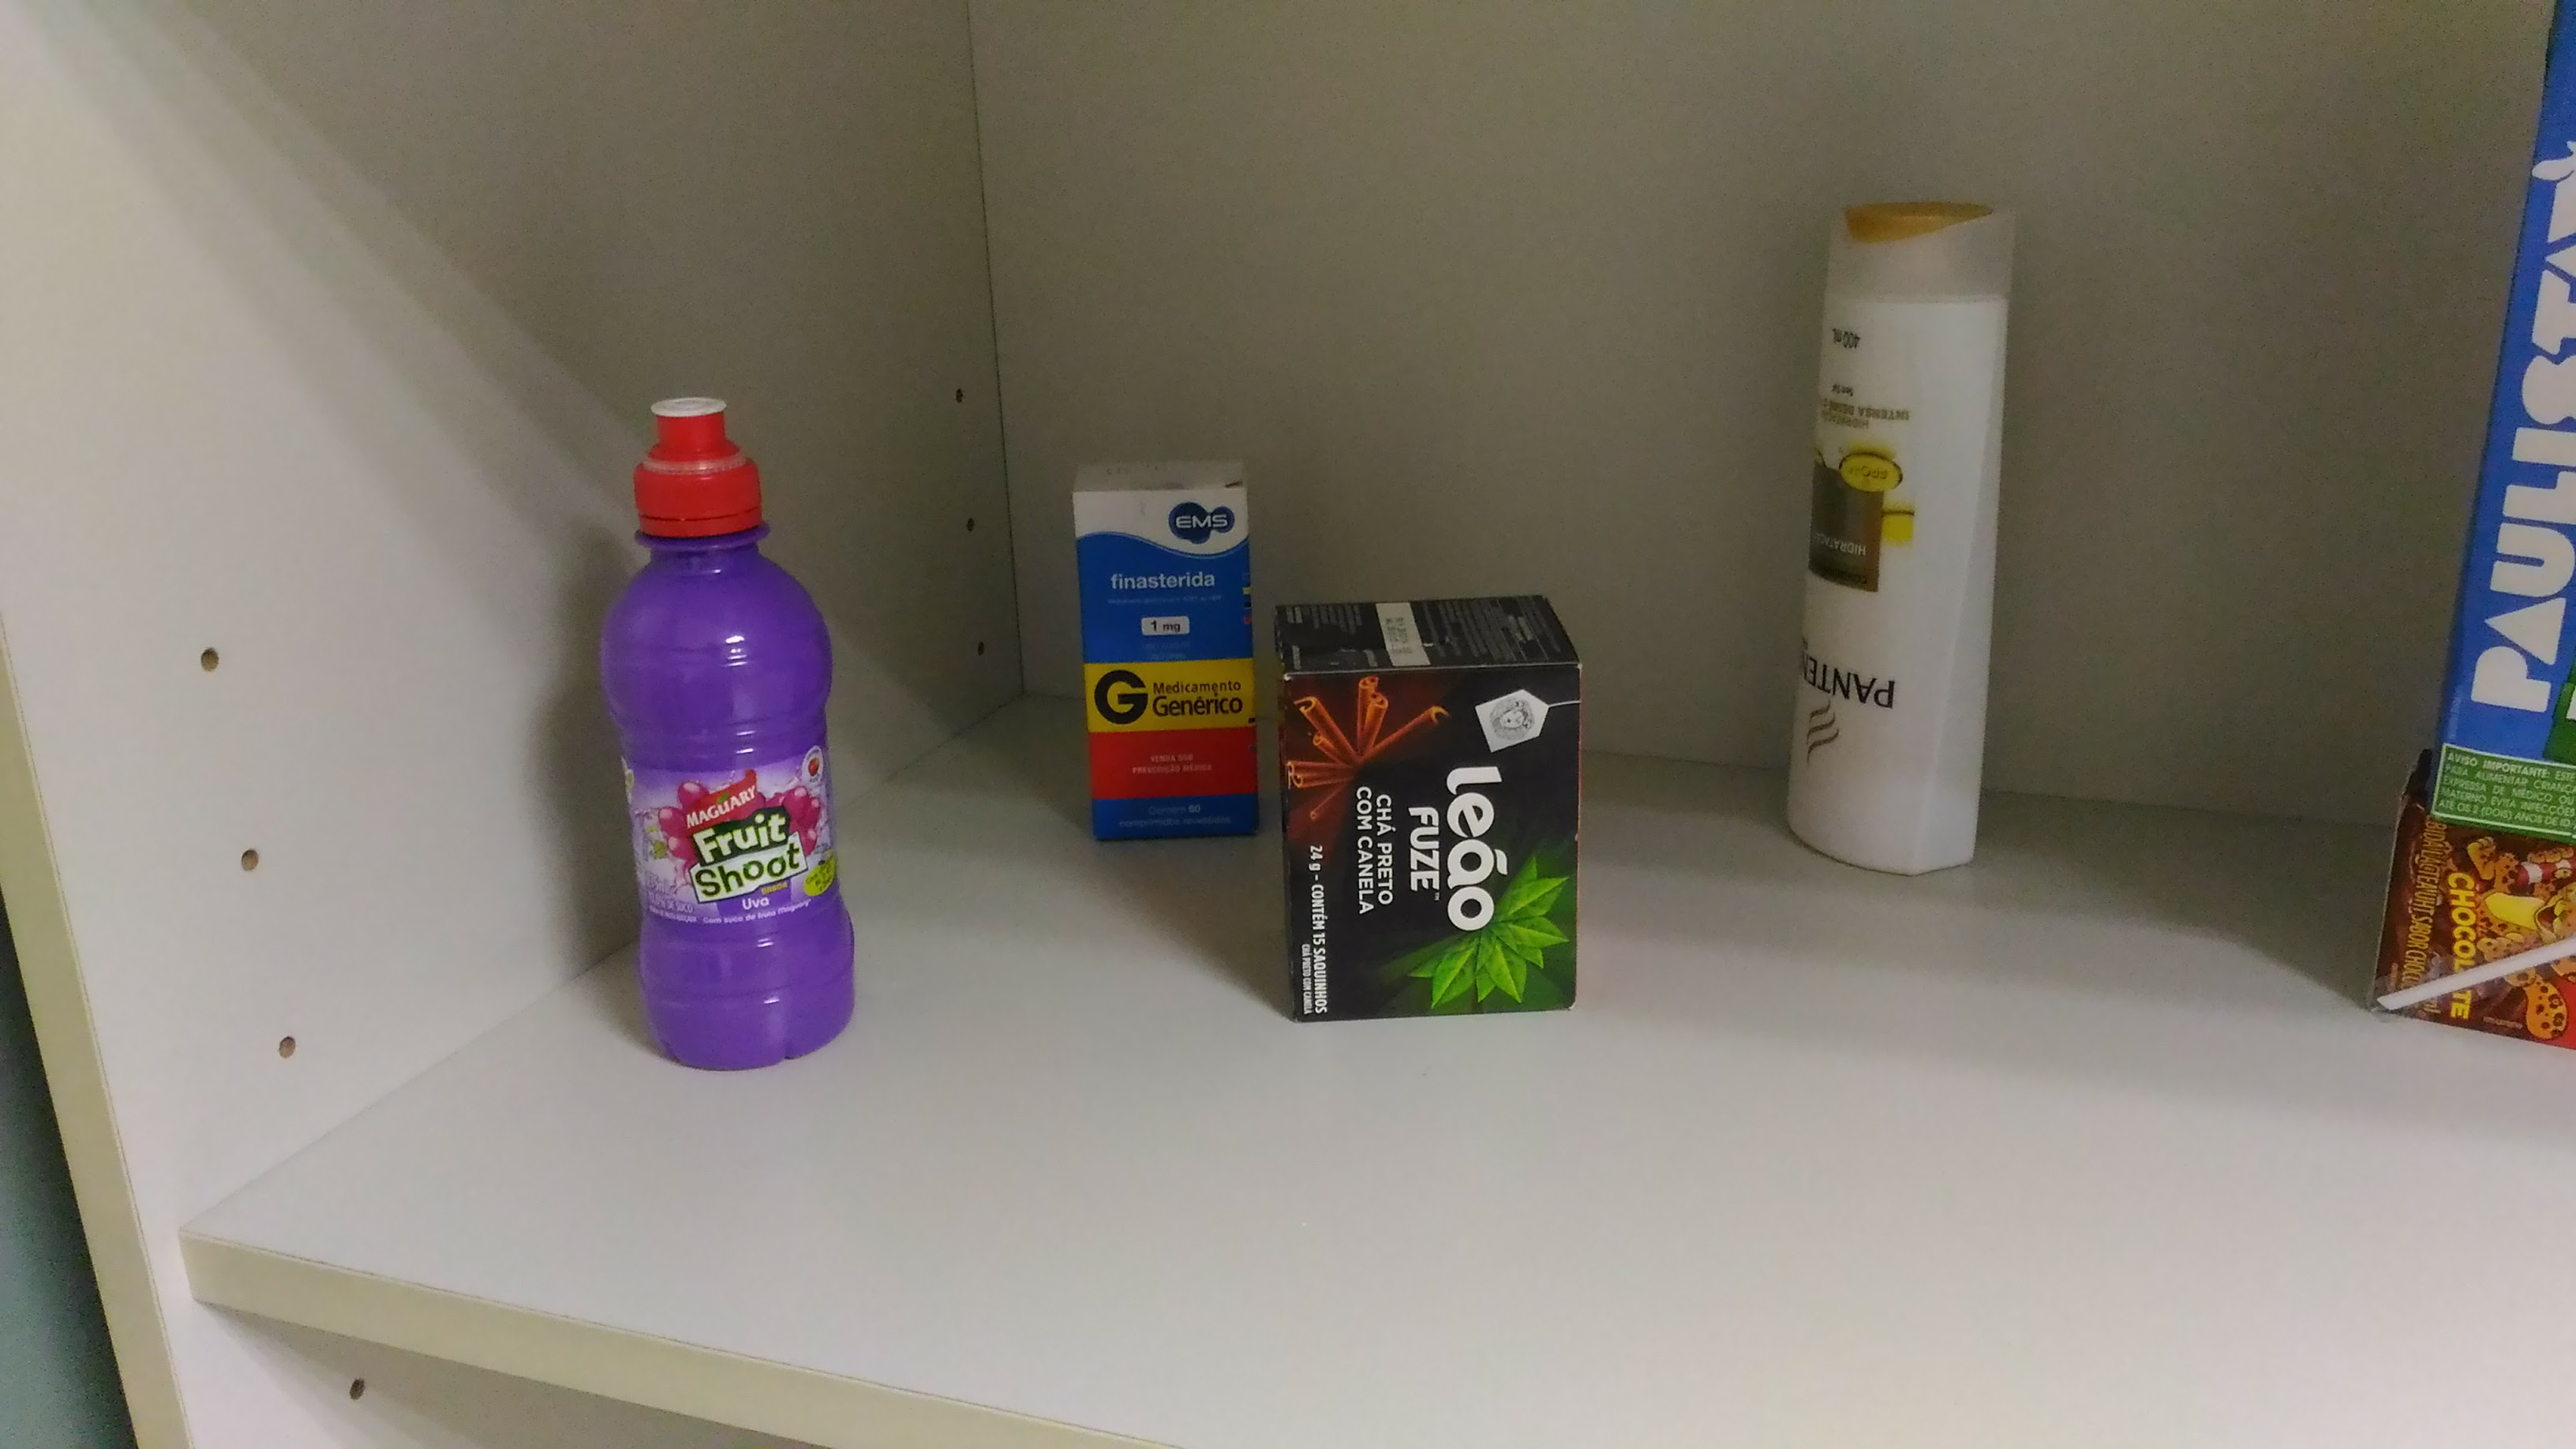medicine: (1056, 448, 1270, 863)
purple_juice: (591, 373, 870, 1092)
shampoo: (1778, 175, 2031, 893)
tea_box: (1267, 586, 1594, 1031)
